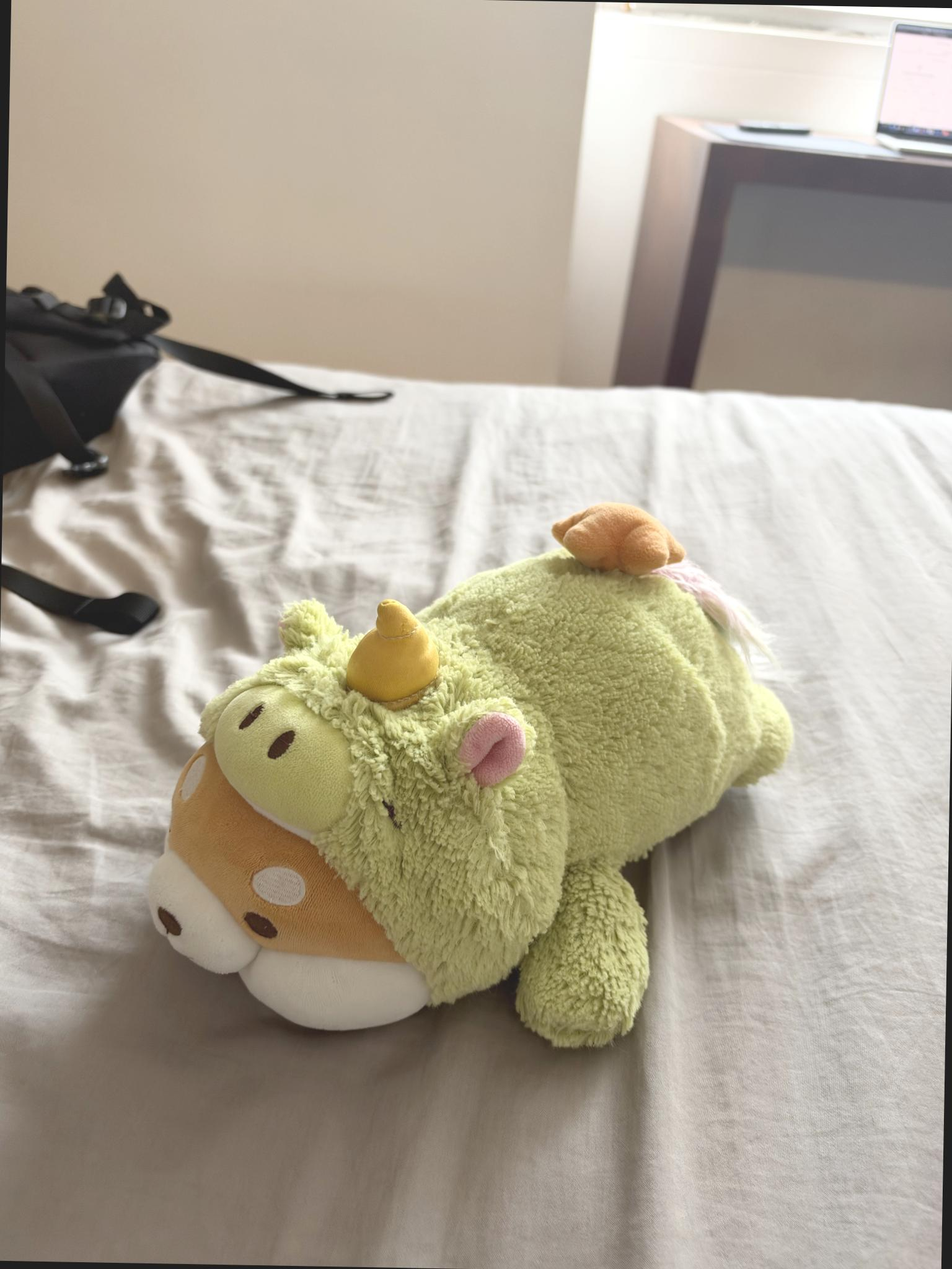peluche_martin: (142, 490, 801, 1055)
